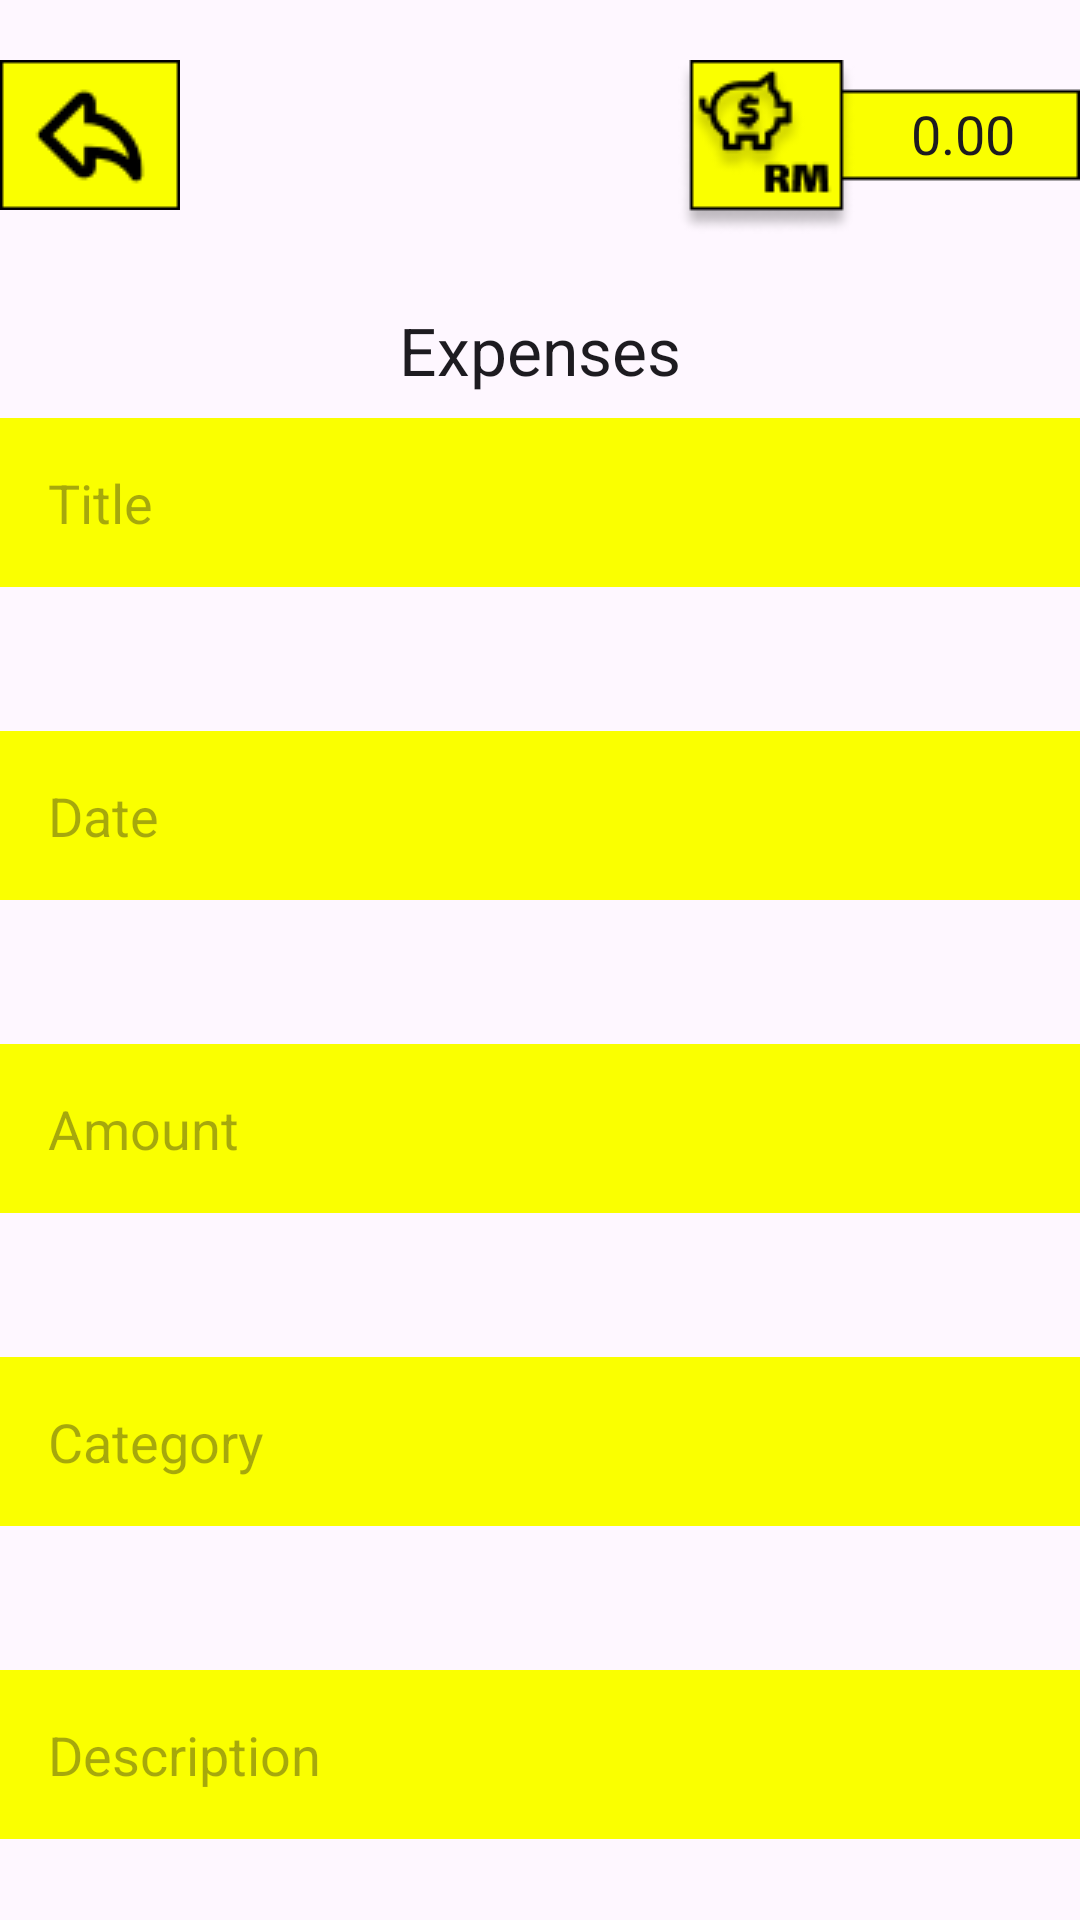

Icon bounding boxes for this 1080w x 1920h phone screenshot, format (x1, y1, x2, y2):
previous page: (0, 60, 180, 210)
